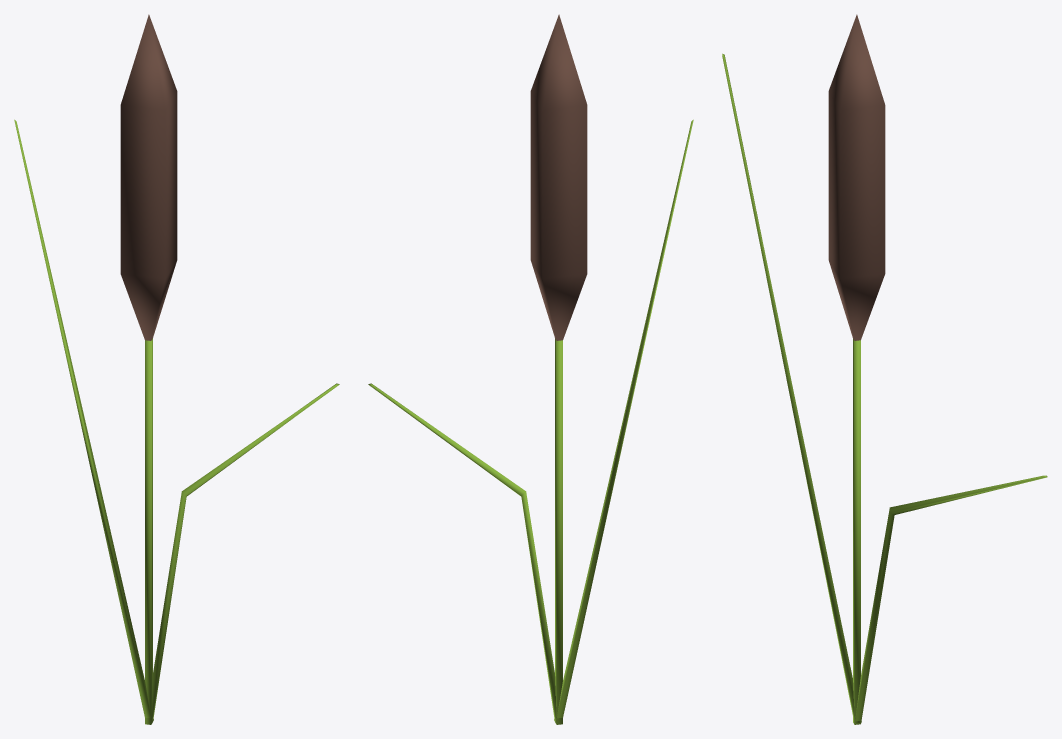
Rendered from rush_v3.fbx.
3 views of the same model, side by side, from view 1: azimuth 30°, elevation 25°; view 2: azimuth 150°, elevation 25°; view 3: azimuth 330°, elevation 25° (orthographic).
Visible parts, largest first — view 1: Rush_LOD0; view 2: Rush_LOD0; view 3: Rush_LOD0.
Part boxes in pixels (<box>): Rush_LOD0: <box>14,14,339,724</box>; Rush_LOD0: <box>368,14,693,724</box>; Rush_LOD0: <box>722,14,1047,724</box>.
Size of what is drawn, in the model's own units: 44.31 by 92.24 by 7.73.
